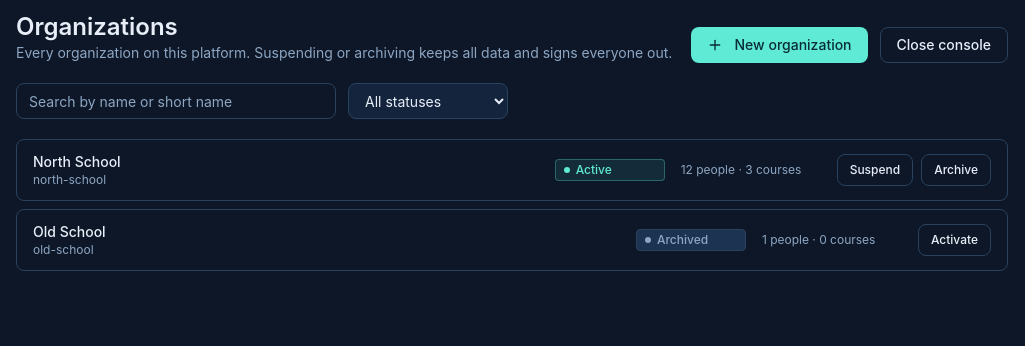
PlatformConsolePage › suspends an active organization after confirming, and only offers archive where it applies
The image size is (1025, 346).
Expected: the button "North School" is shown, [33,152,121,172]
Expected: the button with aria-label "Activate Old School" is shown, [918,224,991,256]
Click the button with aria-label "Suspend North School": (875, 170) [837,154,913,186]
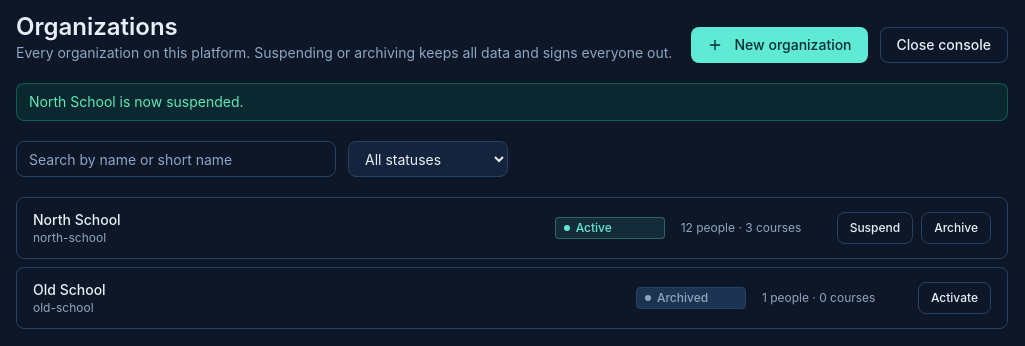
Expected: the text "North School is now suspended." is shown, [16,83,1008,121]
